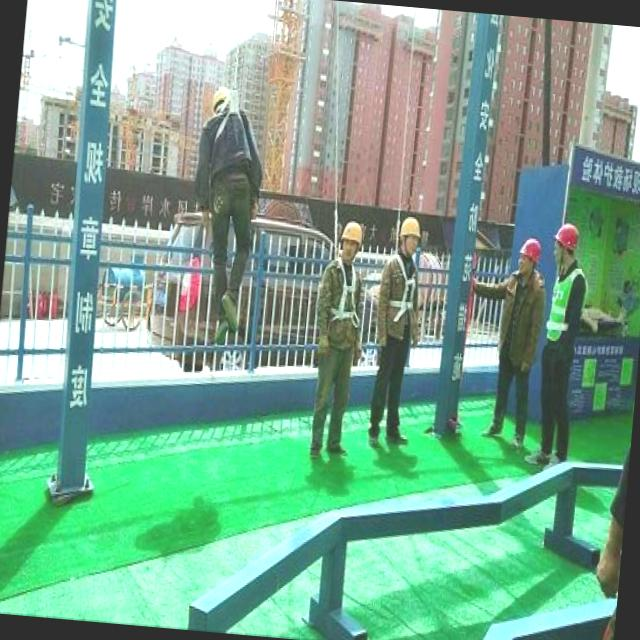helmet: (554, 223, 584, 260), (342, 217, 368, 250), (398, 213, 424, 240), (522, 230, 542, 261)
no-vest: (496, 267, 546, 365), (316, 261, 364, 349), (378, 254, 422, 348)
vest: (542, 260, 580, 352)
